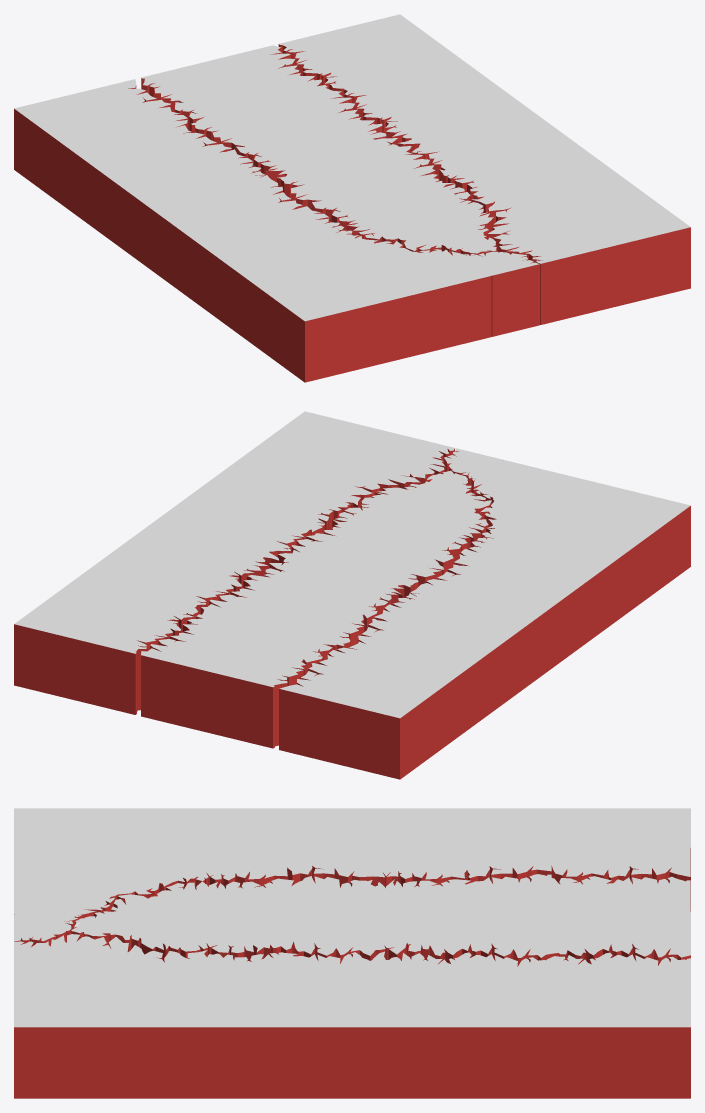
3 renders of one model, top to bottom at view 1: azimuth 30°, elevation 25°; view 2: azimuth 150°, elevation 25°; view 3: azimuth 270°, elevation 25°, orthographic. The views are drawn at different scales.
Parts seen in each view (by area): view 1: Plane.009, Plane.010, Plane.008; view 2: Plane.009, Plane.010, Plane.008; view 3: Plane.010, Plane.009, Plane.008.
Part boxes in pixels (box(x1,y1,x2,y2)): Plane.009: box(14, 79, 491, 382); Plane.010: box(278, 14, 690, 324); Plane.008: box(141, 45, 539, 336); Plane.009: box(279, 460, 690, 779); Plane.010: box(14, 411, 454, 714); Plane.008: box(141, 448, 503, 748); Plane.010: box(14, 934, 690, 1098); Plane.009: box(14, 808, 690, 930); Plane.008: box(14, 874, 690, 965).
Size of the model in its own units: 8263 by 1262 by 10782.
